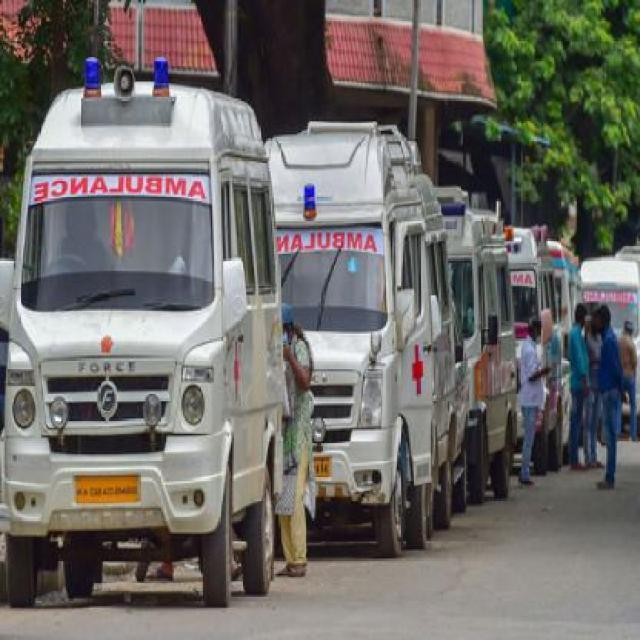Ambulance: (0, 53, 638, 615), (0, 55, 289, 612), (0, 396, 638, 638), (262, 117, 472, 560)
